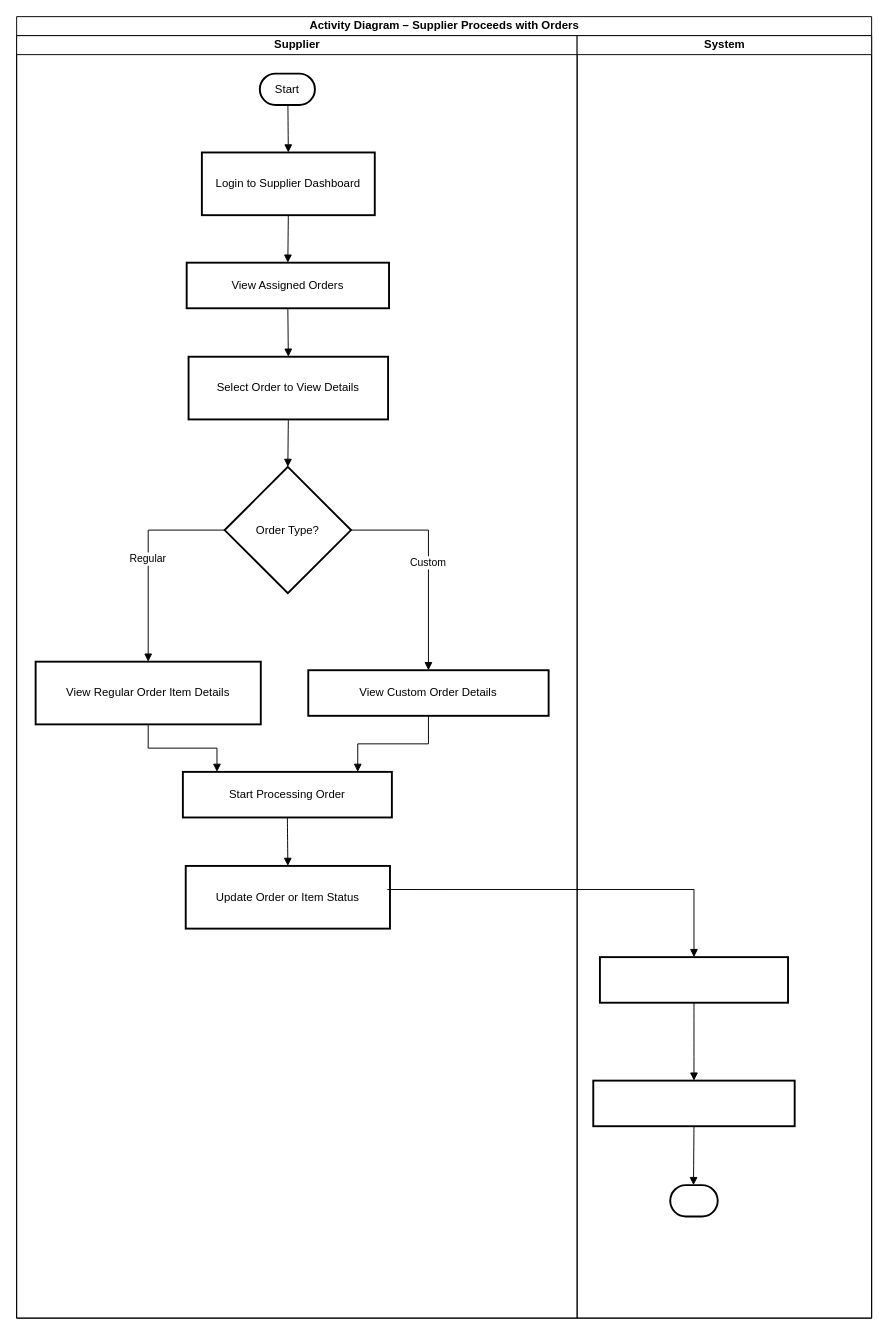
The diagram is 888 pixels wide and 1335 high, and some of its shapes have lost their labels. Here are the shapes that lost their labels. From the top down, the centre of each, then its label:
At point (693, 979): "Save Status Update".
At point (693, 1103): "Notify Store Manager".
At point (693, 1200): "End".
